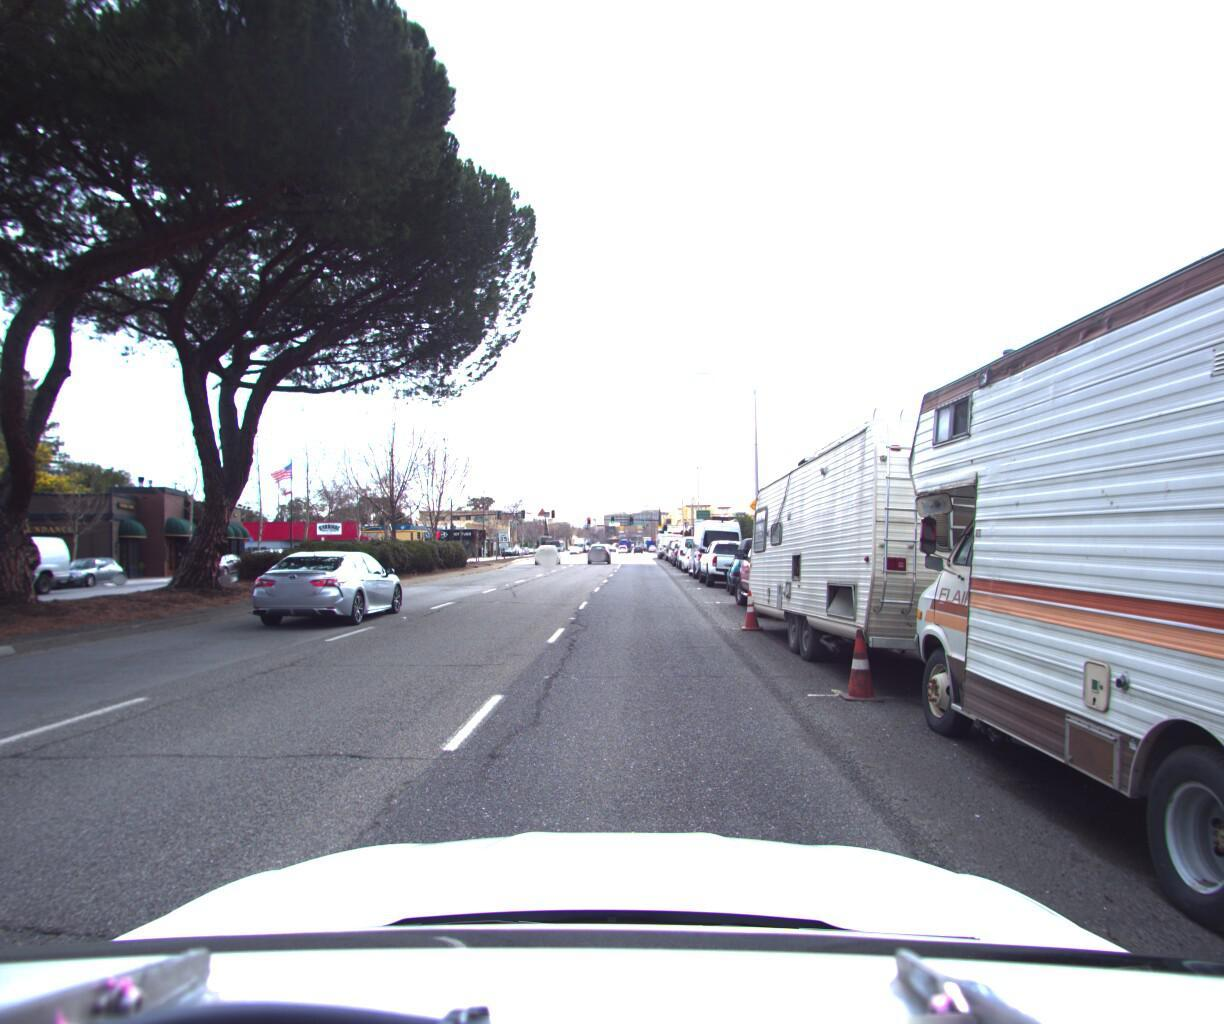car: (247, 546, 414, 633), (730, 527, 865, 630), (717, 533, 788, 594), (686, 514, 745, 579), (697, 535, 761, 587), (43, 554, 132, 591), (675, 530, 713, 566), (534, 537, 562, 559), (585, 537, 612, 559), (663, 530, 686, 555)
other_vehicle: (737, 396, 1159, 731)
